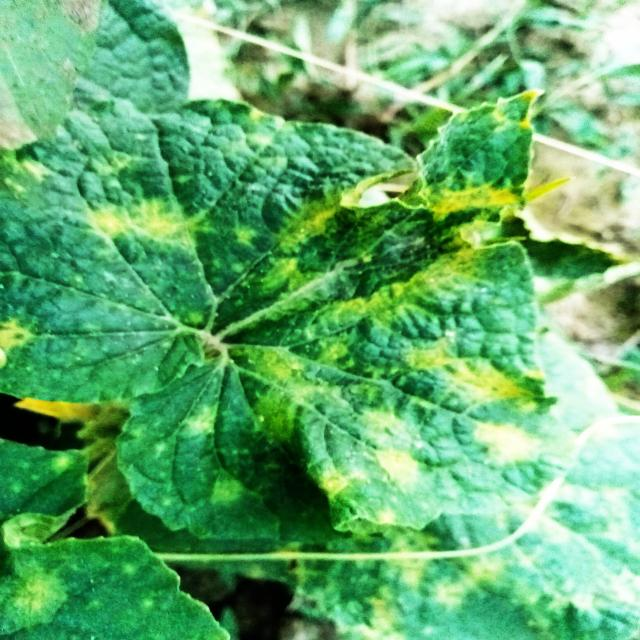Downy-Mildew: (0, 87, 583, 546), (0, 437, 231, 640)
